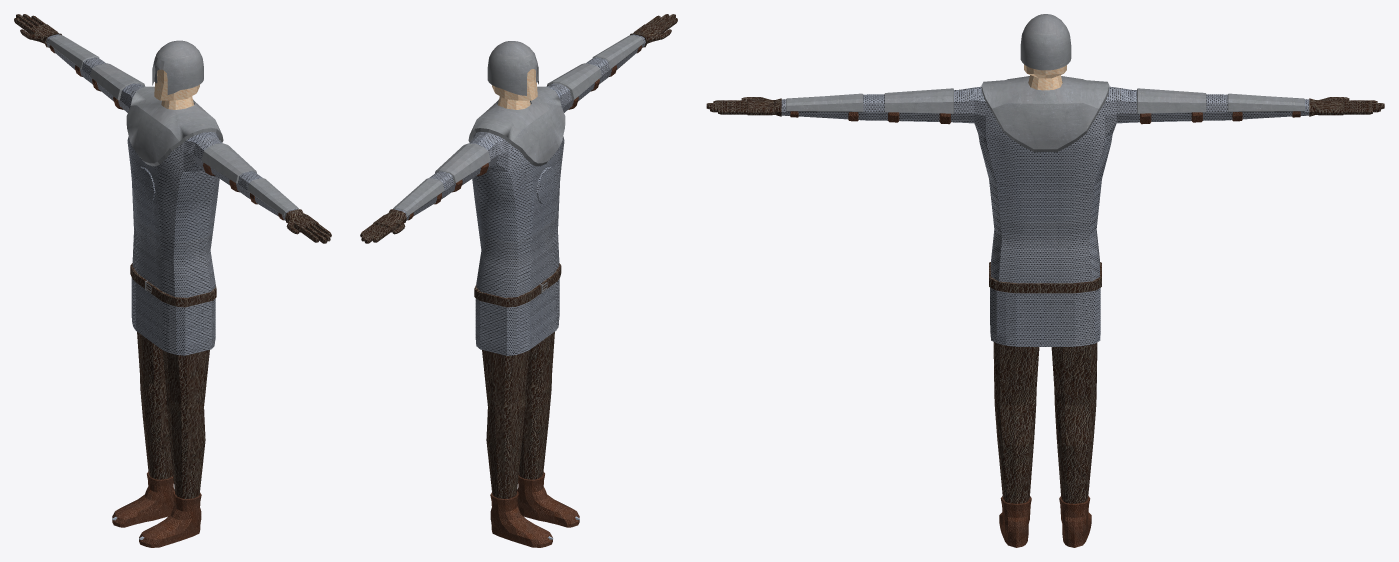
File: Personagem_Principal.obj
The picture shows the model from 3 angles, left to right: view 1: azimuth 30°, elevation 25°; view 2: azimuth 150°, elevation 25°; view 3: azimuth 270°, elevation 25°; orthographic projection. The views are drawn at different scales.
Parts seen in each view (by area): view 1: Sphere001; view 2: Sphere001; view 3: Sphere001.
Boxes of the visible parts, x1,y1,x2,y2 form: Sphere001: [14, 14, 331, 547]; Sphere001: [360, 14, 677, 547]; Sphere001: [706, 14, 1384, 547].
Size of the model in its own units: 16.34 by 94.84 by 111.
